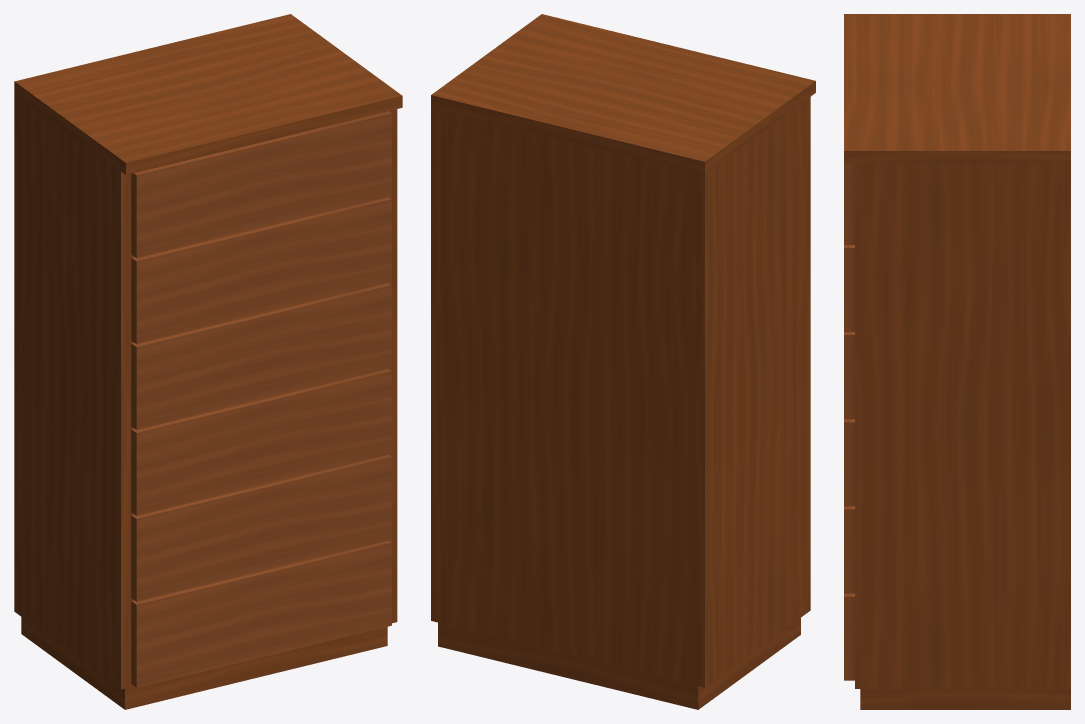
Rendered from comoda-alta.glb.
3 renders of one model, left to right at view 1: azimuth 30°, elevation 25°; view 2: azimuth 150°, elevation 25°; view 3: azimuth 270°, elevation 25°, orthographic. The views are drawn at different scales.
Visible parts, largest first — view 1: comoda-alta; view 2: comoda-alta; view 3: comoda-alta.
Part boxes in pixels (x1,y1,x2,y2): comoda-alta: [14, 14, 402, 709]; comoda-alta: [431, 14, 815, 709]; comoda-alta: [844, 14, 1070, 709].
Bounding box in the file's own units: 0.6 × 1.15 × 0.42.
Materials: 2 (2 with a texture image).
